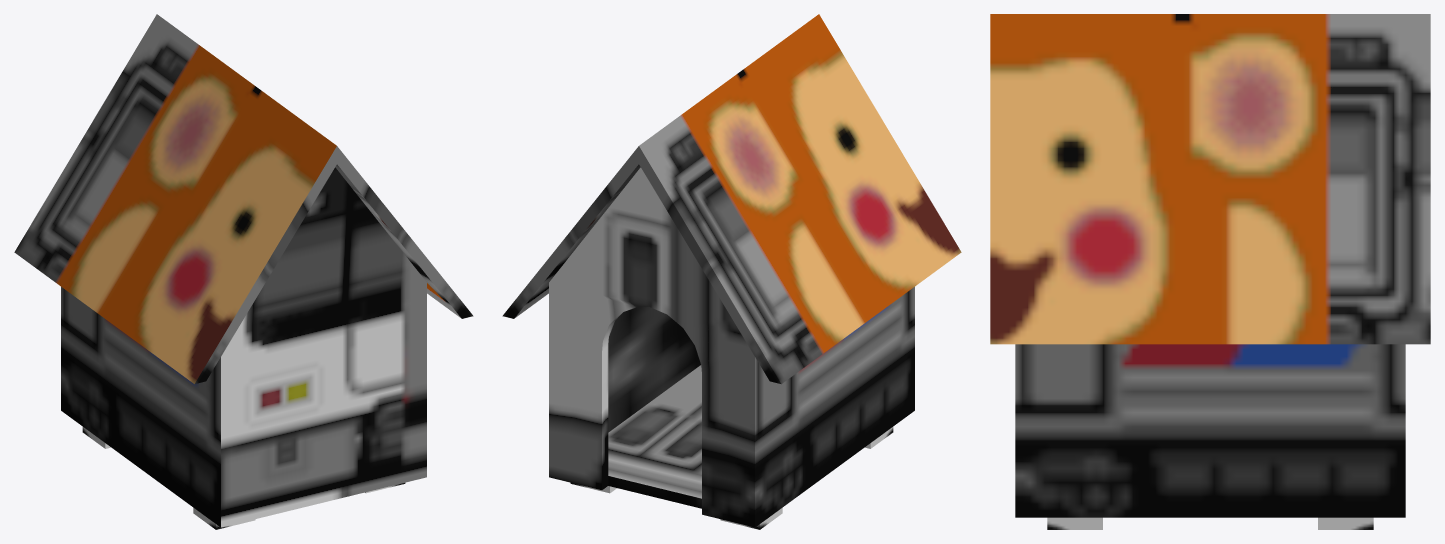
Rendered from icon.obj.
3 renders of one model, left to right at view 1: azimuth 30°, elevation 25°; view 2: azimuth 150°, elevation 25°; view 3: azimuth 270°, elevation 25°, orthographic. The views are drawn at different scales.
Size of the model in its own units: 0.5799 by 0.7491 by 0.6481.
